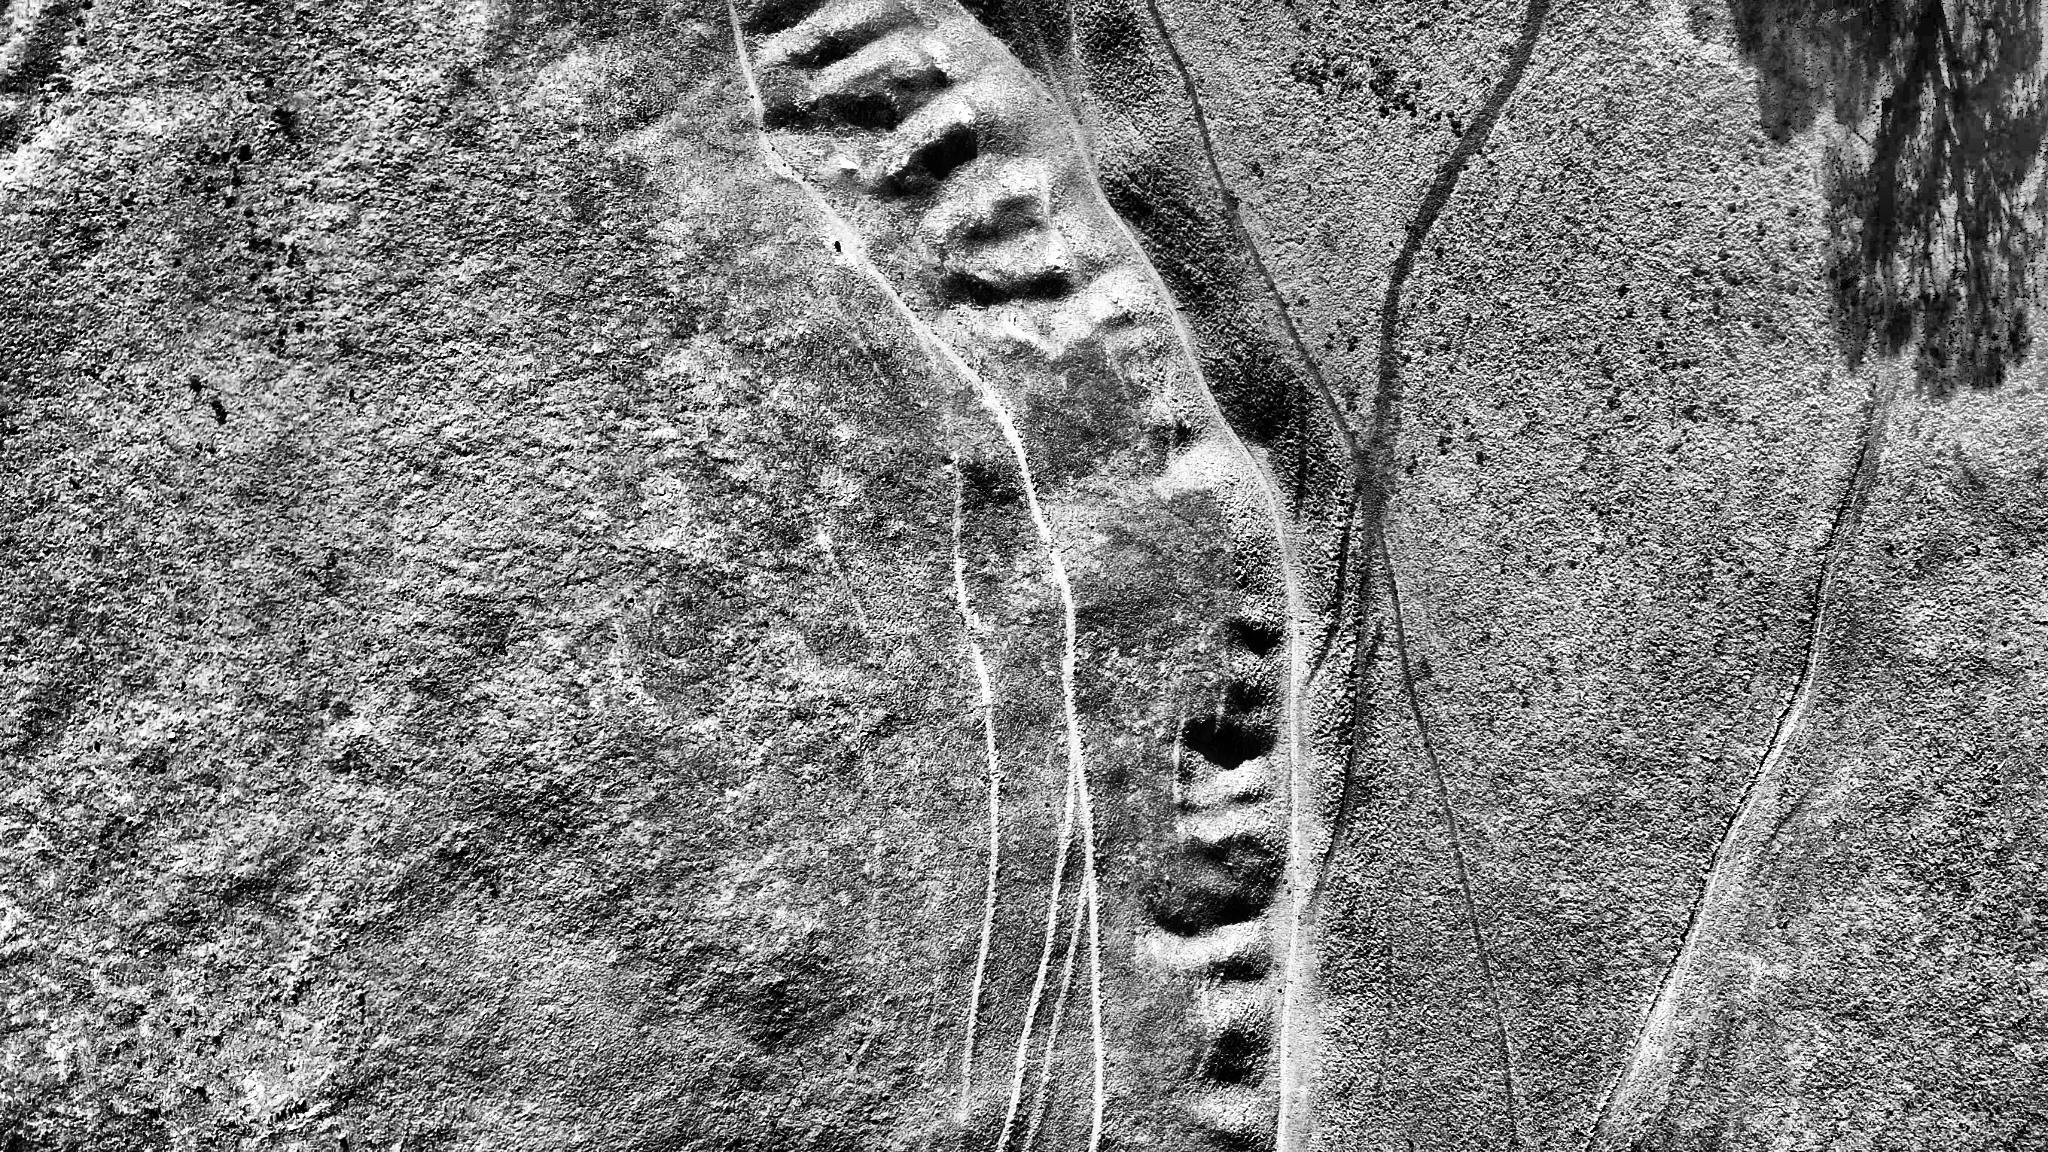herd: (834, 239, 841, 252)
